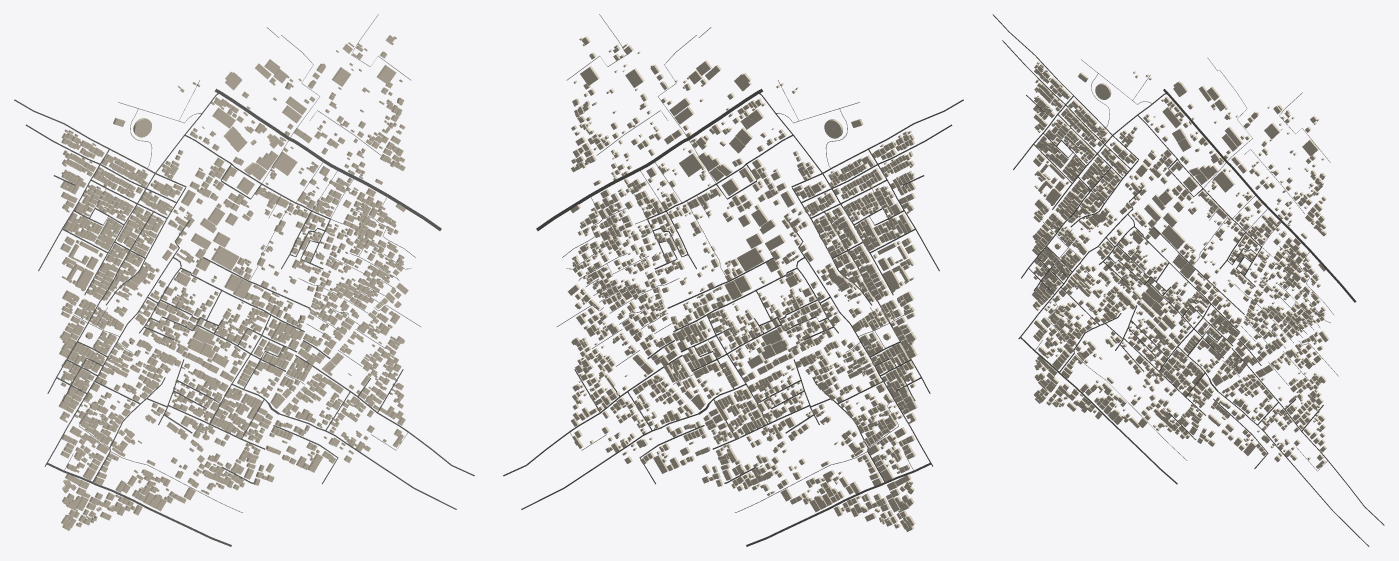
The model's file is historic-palestine-01_19_3430_3135.glb.
The picture shows the model from 3 angles, left to right: view 1: azimuth 30°, elevation 25°; view 2: azimuth 150°, elevation 25°; view 3: azimuth 330°, elevation 25°; orthographic projection. The views are drawn at different scales.
Bounding box in the file's own units: 1292 × 1418 × 8.89.
